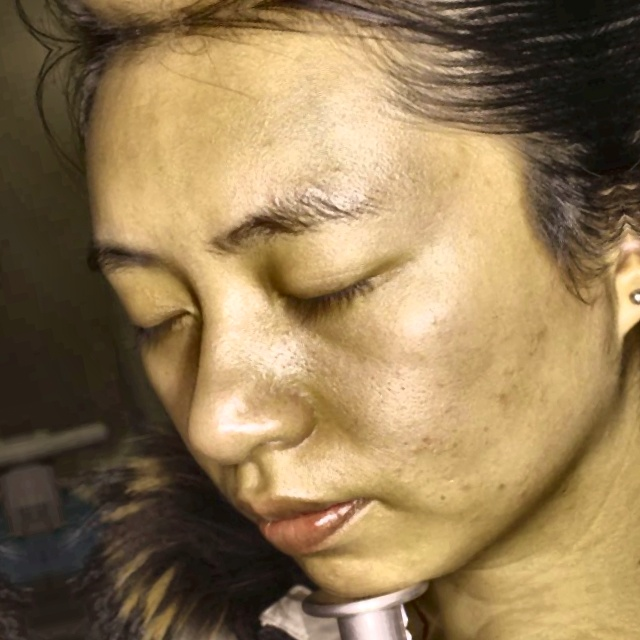comedone: (398, 429, 442, 465), (481, 382, 520, 412)
